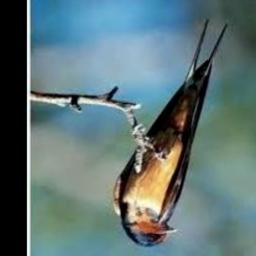Swallow: (113, 20, 228, 248)
